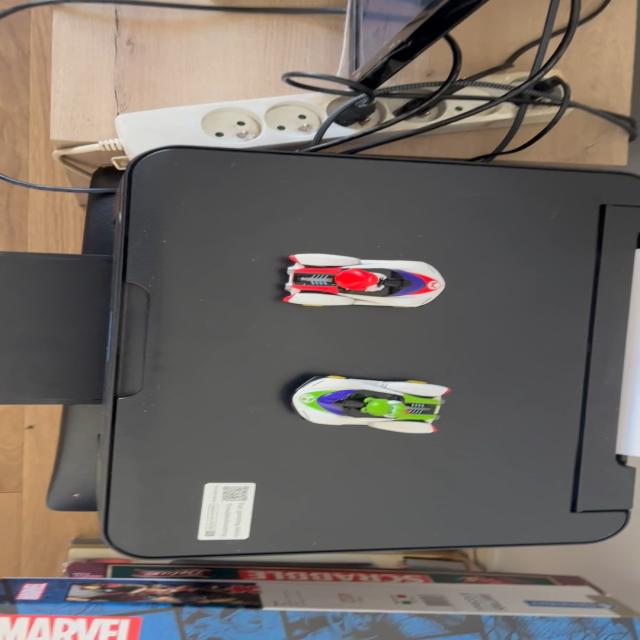mario: (270, 249, 460, 315)
yoshi: (276, 368, 459, 440)
